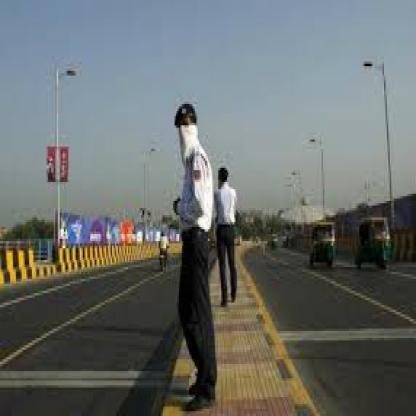car: (358, 198, 399, 298), (301, 202, 336, 278)
